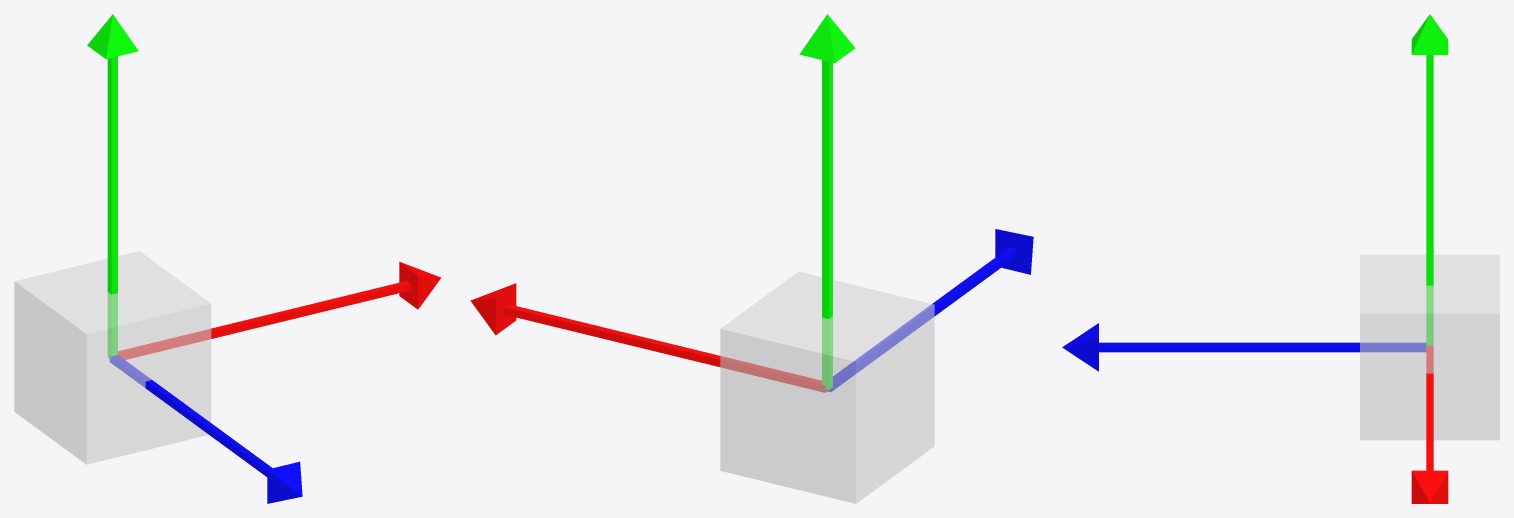
Rendered from translate.glb.
The picture shows the model from 3 angles, left to right: view 1: azimuth 30°, elevation 25°; view 2: azimuth 150°, elevation 25°; view 3: azimuth 270°, elevation 25°; orthographic projection. The views are drawn at different scales.
Parts seen in each view (by area): view 1: Cube.003, Cube.001, Cube, Cube.002; view 2: Cube.003, Cube, Cube.001, Cube.002; view 3: Cube.003, Cube.002, Cube.001, Cube.
Boxes of the visible parts, bbox=[...] form: Cube.003: bbox=[14, 251, 211, 464]; Cube.001: bbox=[87, 14, 138, 358]; Cube: bbox=[118, 261, 440, 359]; Cube.002: bbox=[110, 355, 302, 503]; Cube.003: bbox=[720, 271, 934, 503]; Cube: bbox=[470, 283, 826, 392]; Cube.001: bbox=[799, 14, 855, 389]; Cube.002: bbox=[827, 229, 1033, 391]; Cube.003: bbox=[1360, 254, 1499, 440]; Cube.002: bbox=[1062, 323, 1425, 371]; Cube.001: bbox=[1411, 14, 1448, 345]; Cube: bbox=[1411, 346, 1448, 503].
Size of the model in its own units: 1.19 by 1.19 by 1.19.
